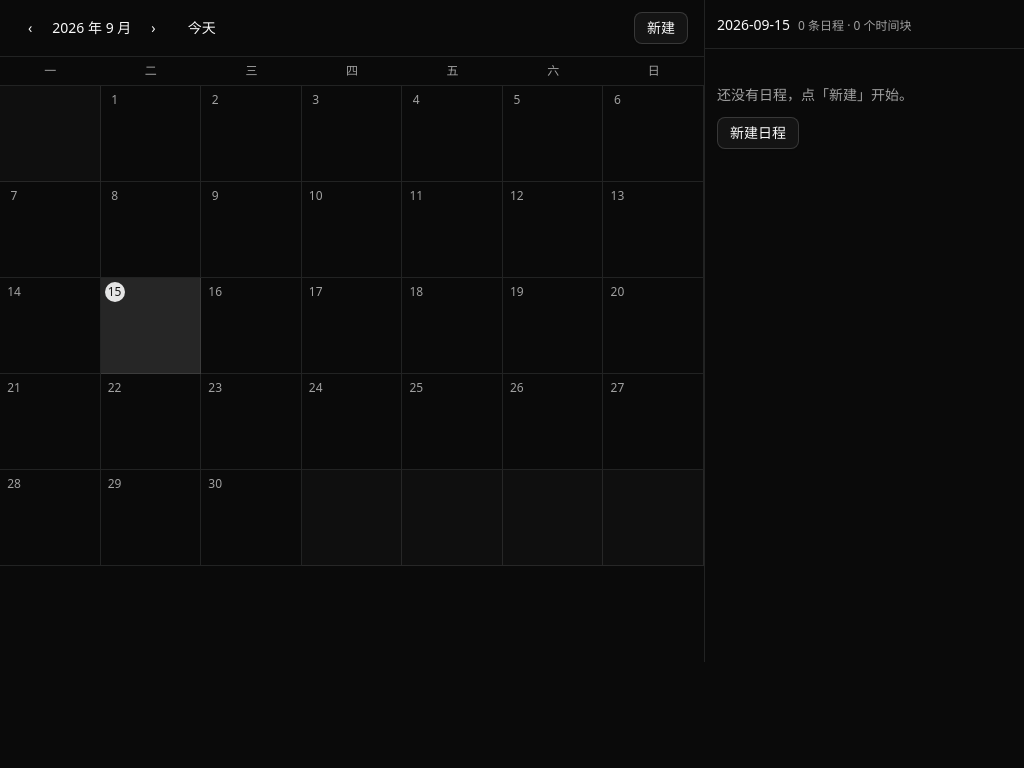
Test case: SchedulesView › 点击某天把右侧详情切到该日期
Expected: the text "2026-09-15" is shown, [717,15,790,34]
Note: 选一个不是今天的日子，否则「已选中」与初始态无法区分
Click the button named "选择 2026-09-20".
click(617, 292)  # box [607,282,627,302]
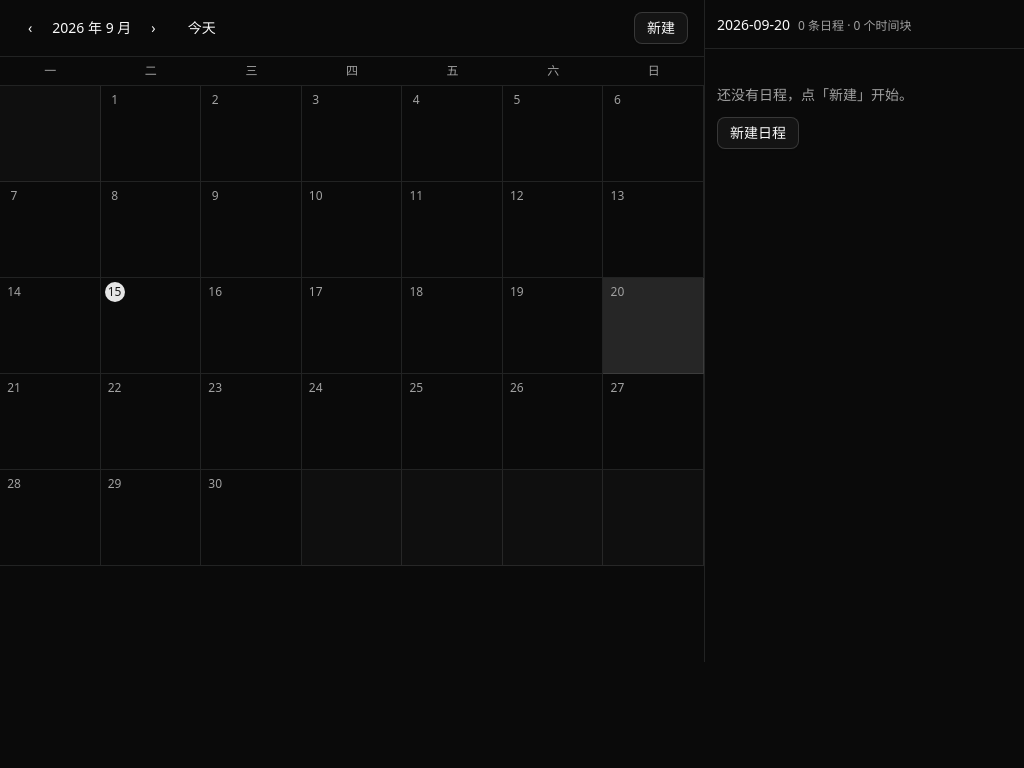
Now the text "2026-09-20" is shown, box [717,15,790,34]
